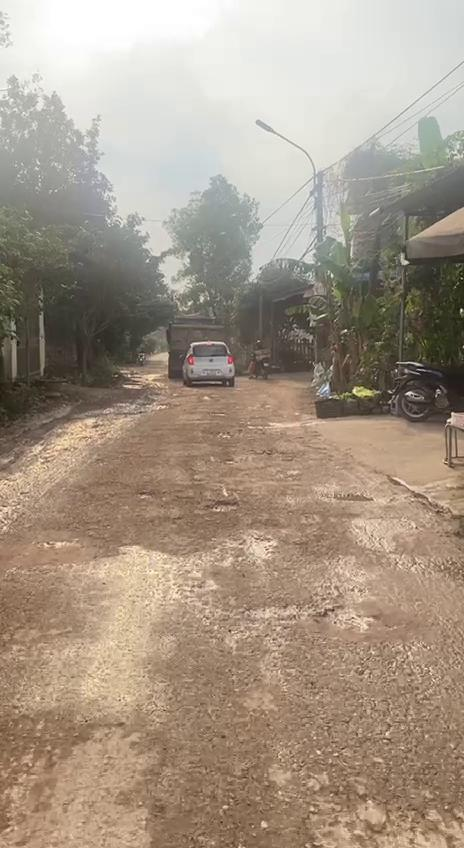pothole: (310, 596, 379, 632), (328, 488, 376, 504), (206, 495, 240, 517)
